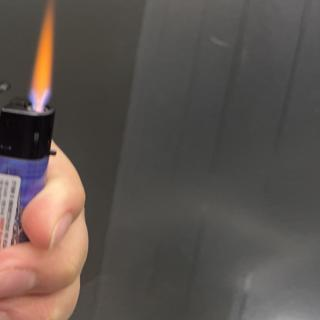fire: (25, 2, 56, 106)
